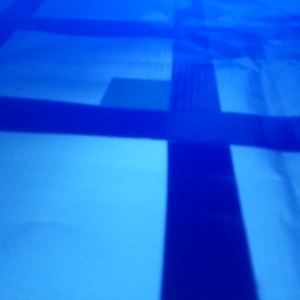bottom_right: (174, 25, 265, 58)
top_left: (100, 78, 217, 140)
